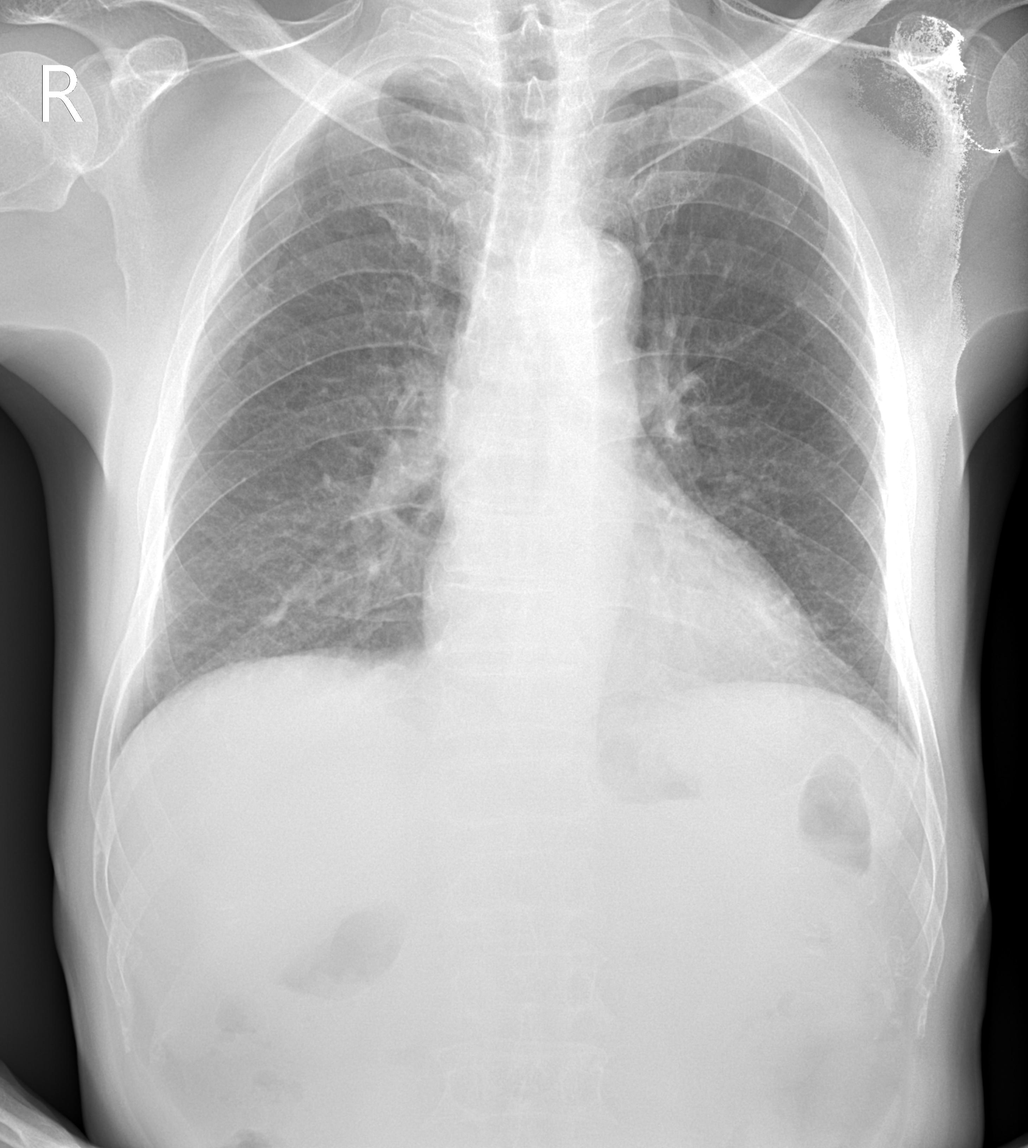Aortic enlargement: (525, 232, 644, 371)
Cardiomegaly: (418, 553, 831, 691)
Pleural thickening: (607, 30, 748, 86), (327, 53, 465, 102)
